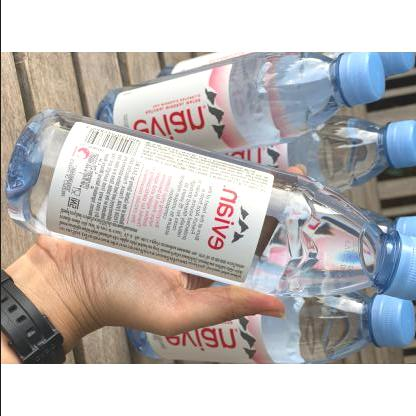bottle: (7, 112, 416, 290), (105, 46, 390, 152), (116, 290, 416, 376), (147, 47, 416, 127), (251, 108, 416, 200)
